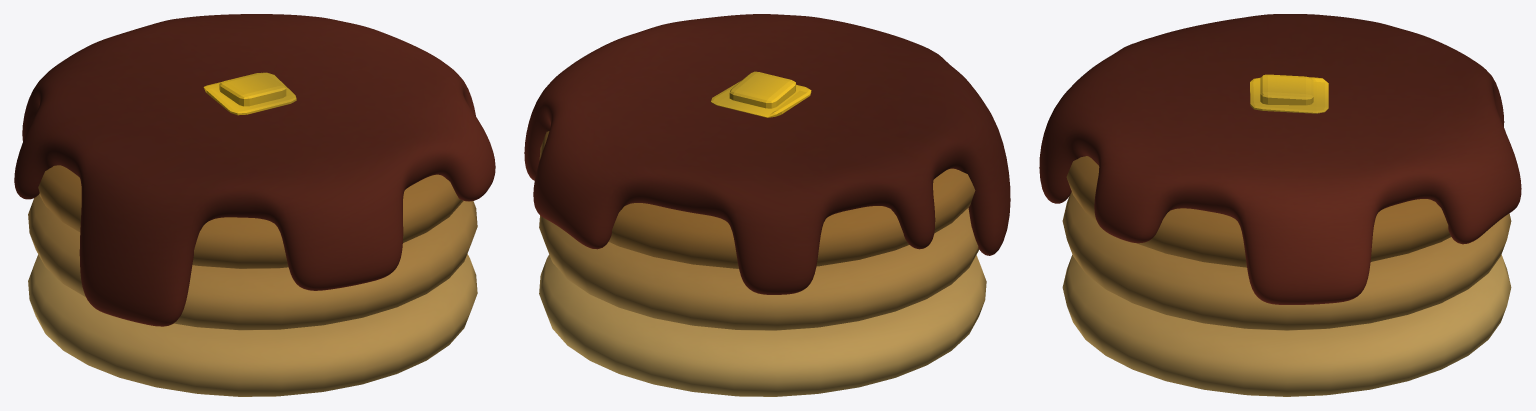
File: Pancakes.glb
3 renders of one model, left to right at view 1: azimuth 30°, elevation 25°; view 2: azimuth 150°, elevation 25°; view 3: azimuth 270°, elevation 25°, orthographic.
Visible parts, largest first — view 1: Pancakes; view 2: Pancakes; view 3: Pancakes.
Part boxes in pixels (left/top/right/bottom): Pancakes: left=14, top=14, right=495, bottom=396; Pancakes: left=524, top=14, right=1010, bottom=396; Pancakes: left=1039, top=14, right=1521, bottom=396.
Size of the model in its own units: 0.2809 by 0.1515 by 0.2809.
Materials: 1 (1 with a texture image).
